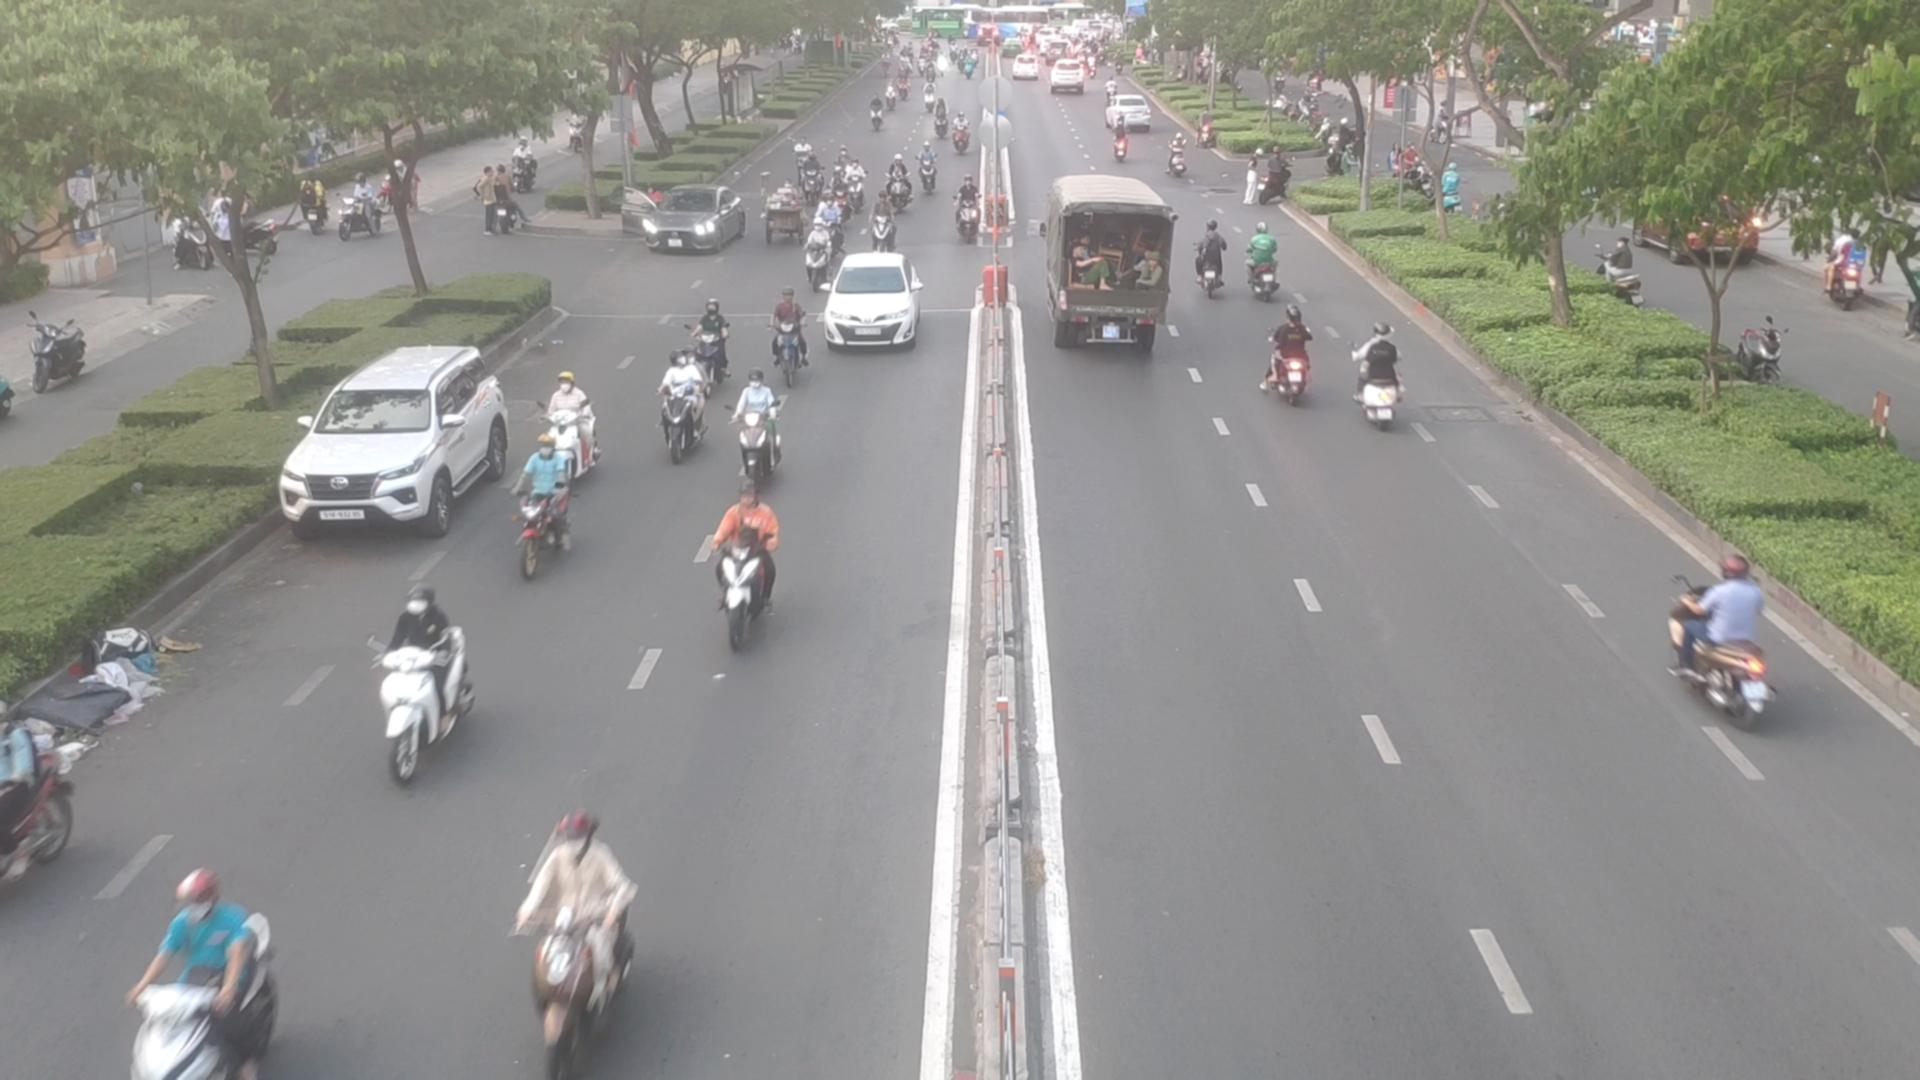car: (286, 343, 520, 531), (822, 258, 927, 355), (621, 190, 753, 258)
motorbike: (115, 870, 280, 1076), (505, 814, 644, 1052), (1654, 560, 1782, 729), (371, 593, 483, 778), (0, 719, 82, 909), (508, 413, 593, 572), (694, 497, 781, 650), (1349, 327, 1414, 430), (723, 375, 786, 468), (651, 360, 709, 462), (1261, 316, 1323, 400), (767, 298, 822, 386), (1240, 225, 1292, 306), (545, 371, 607, 436), (680, 305, 735, 378), (1199, 215, 1229, 302), (803, 225, 843, 284), (953, 186, 990, 247), (764, 189, 800, 248), (816, 195, 849, 237), (880, 169, 910, 214), (800, 162, 829, 202), (1102, 127, 1134, 162), (919, 154, 945, 196)
